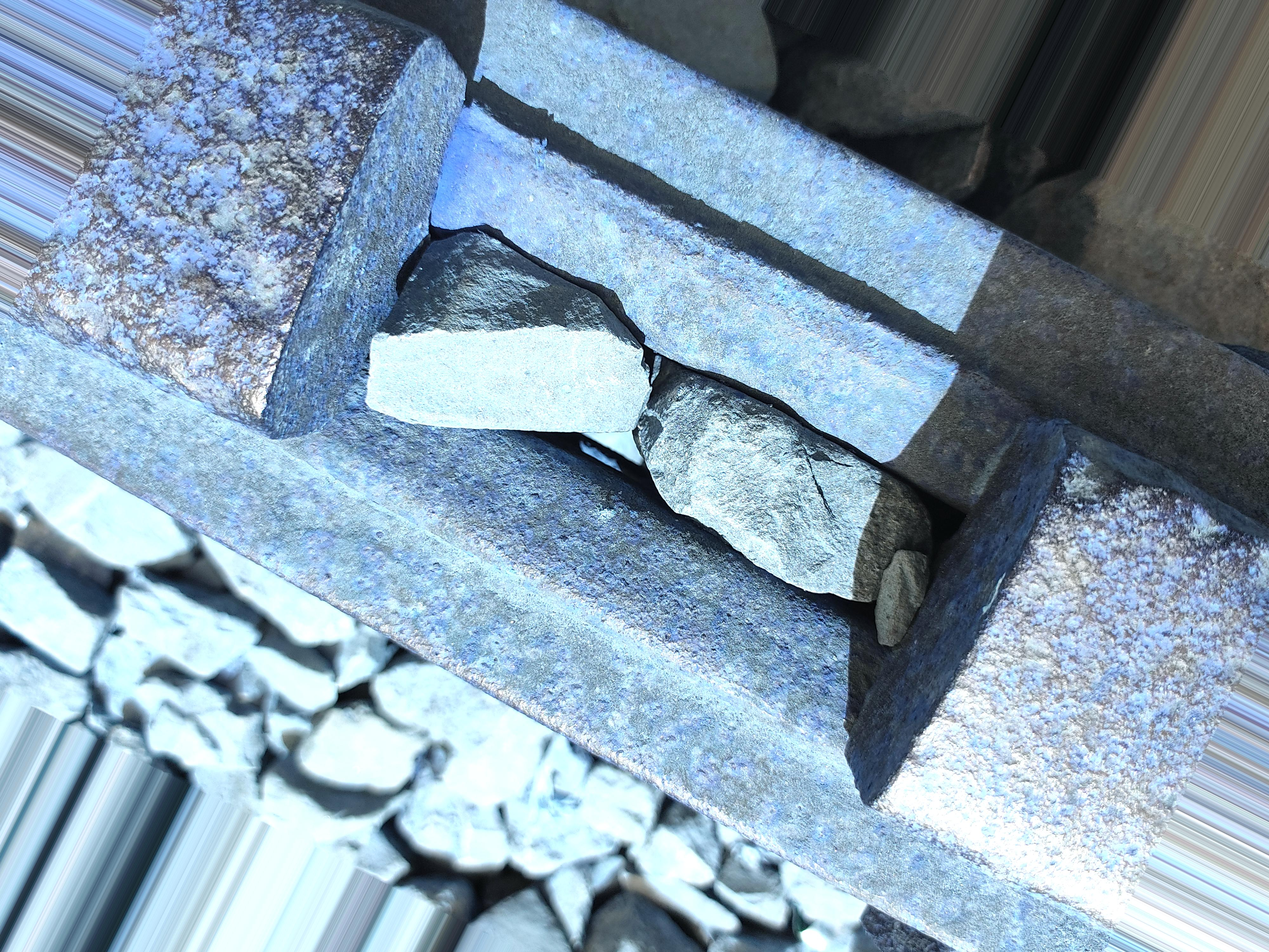tracks_fault: (223, 37, 1055, 800)
